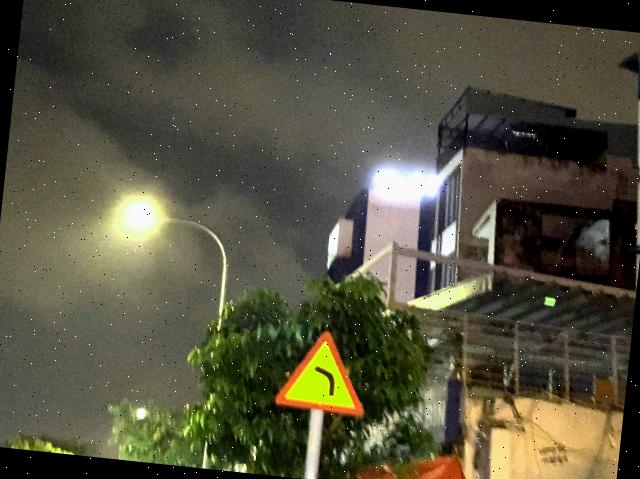cho-ngoat-nguy-hiem-ben-trai: (273, 326, 372, 416)
